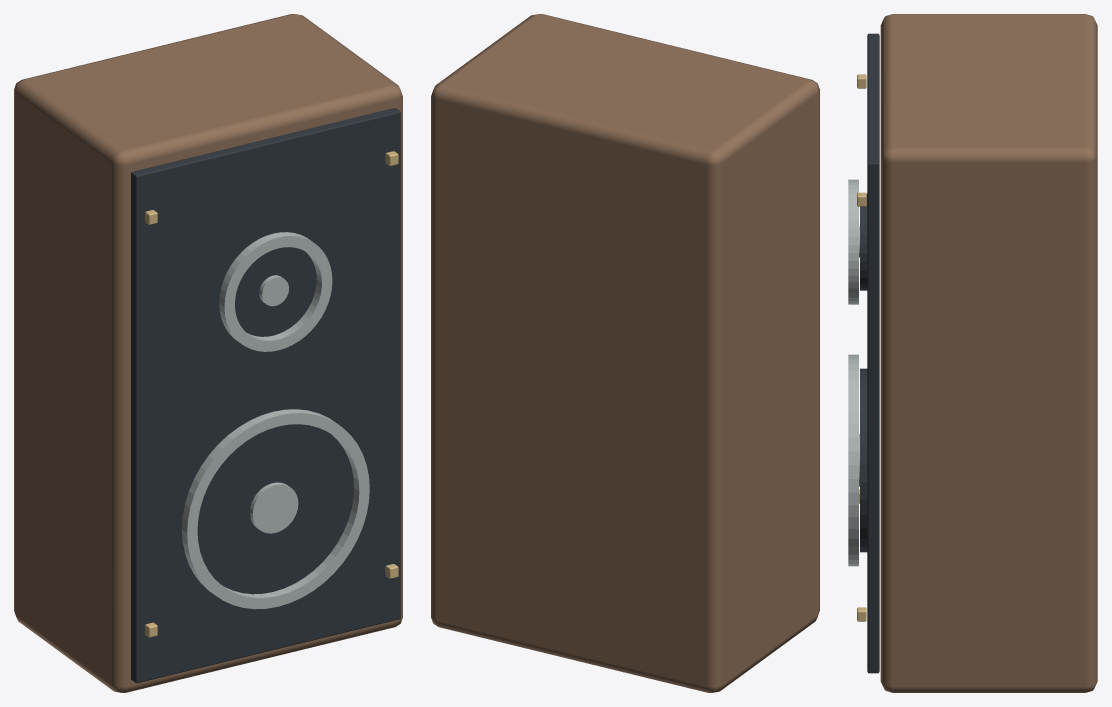
The model's file is abandoned-cinema-and-projection-booth-abandoned-cinema-f015c3a1__29716.glb.
3 views of the same model, side by side, from view 1: azimuth 30°, elevation 25°; view 2: azimuth 150°, elevation 25°; view 3: azimuth 270°, elevation 25° (orthographic).
Visible parts, largest first — view 1: abandoned-cinema-and-projection-booth-speaker-cabinet; view 2: abandoned-cinema-and-projection-booth-speaker-cabinet; view 3: abandoned-cinema-and-projection-booth-speaker-cabinet.
Boxes of the visible parts, box(x1,y1,x2,y2) form: abandoned-cinema-and-projection-booth-speaker-cabinet: box(14, 14, 402, 692); abandoned-cinema-and-projection-booth-speaker-cabinet: box(431, 14, 819, 692); abandoned-cinema-and-projection-booth-speaker-cabinet: box(848, 14, 1097, 692).
Bounding box in the file's own units: 0.7 × 1.25 × 0.517.
